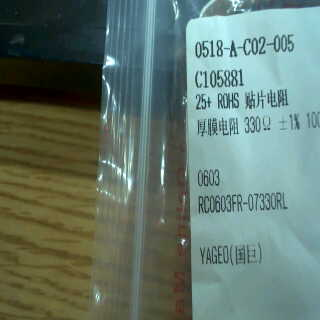330R: (240, 113, 276, 140)
